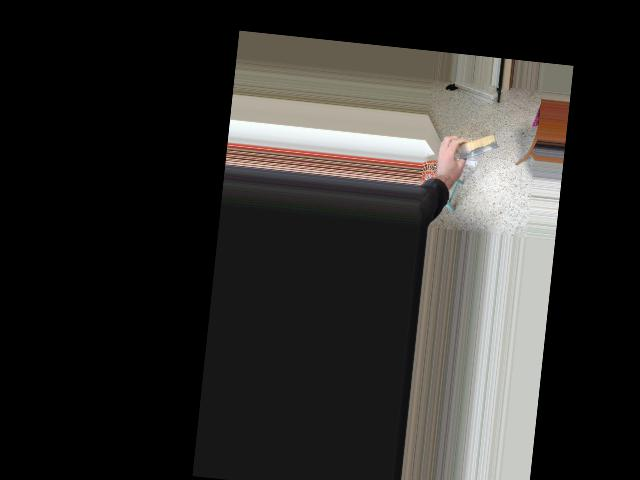cheese: (432, 114, 504, 174)
